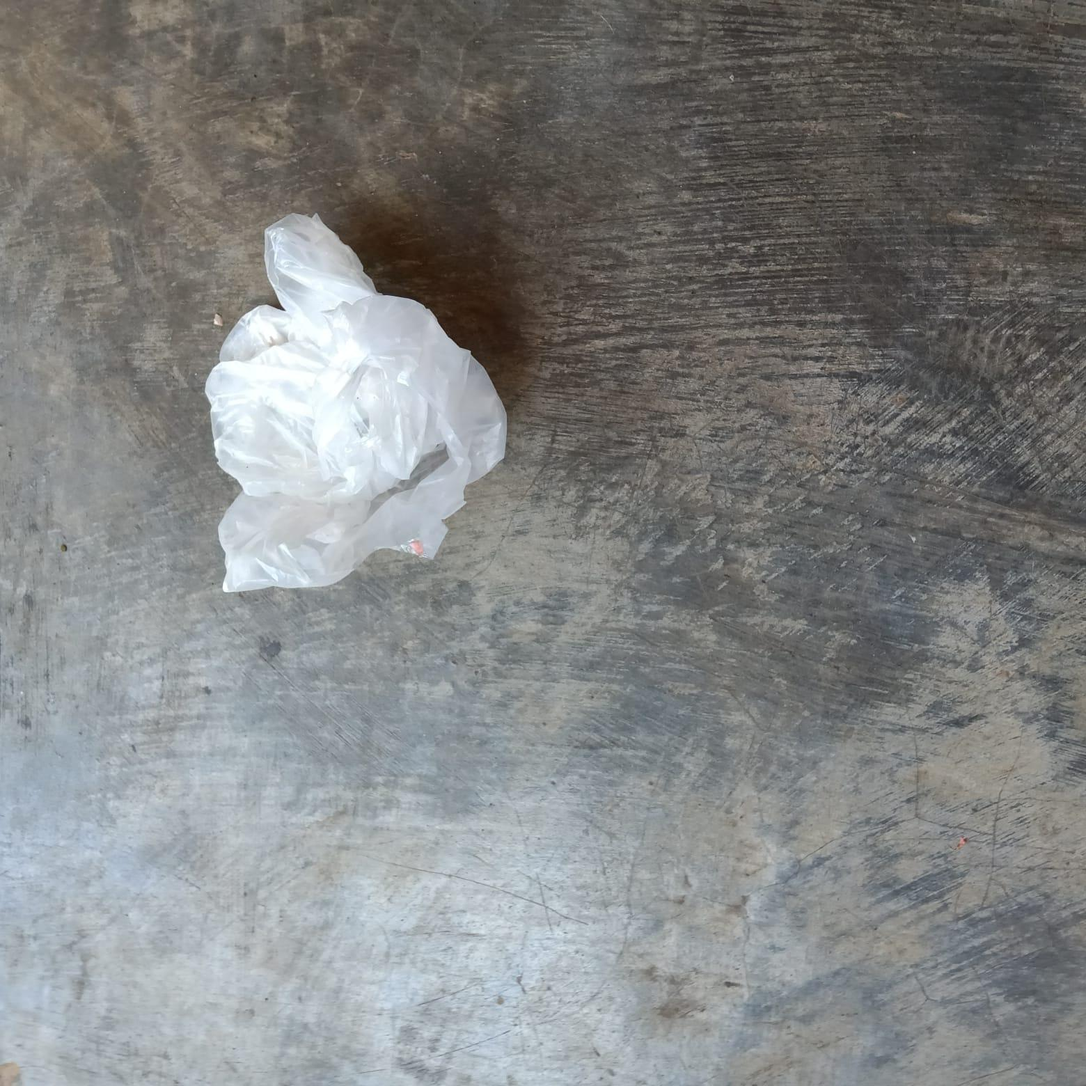Plastik: (200, 213, 506, 592)
